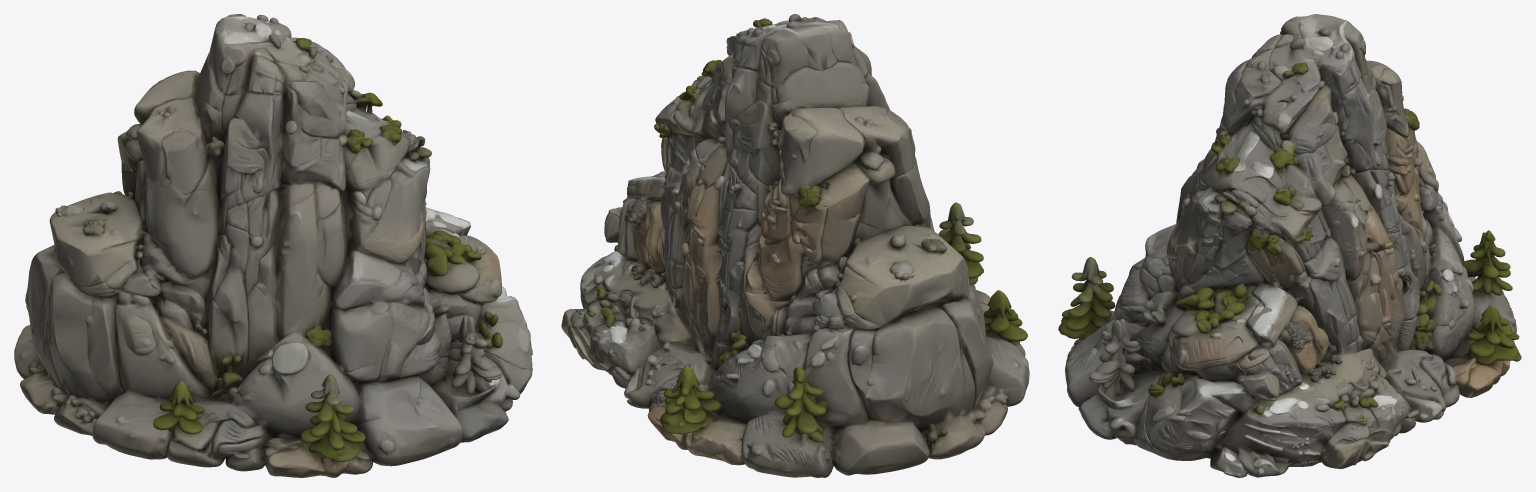
3 renders of one model, left to right at view 1: azimuth 30°, elevation 25°; view 2: azimuth 150°, elevation 25°; view 3: azimuth 270°, elevation 25°, orthographic. The views are drawn at different scales.
Parts seen in each view (by area): view 1: tripo_node_5d3a1920-a5bf-4ad1-8504-2f00e64fca2a; view 2: tripo_node_5d3a1920-a5bf-4ad1-8504-2f00e64fca2a; view 3: tripo_node_5d3a1920-a5bf-4ad1-8504-2f00e64fca2a.
Part boxes in pixels (x1,y1,x2,y2): tripo_node_5d3a1920-a5bf-4ad1-8504-2f00e64fca2a: [14, 14, 532, 477]; tripo_node_5d3a1920-a5bf-4ad1-8504-2f00e64fca2a: [561, 14, 1029, 477]; tripo_node_5d3a1920-a5bf-4ad1-8504-2f00e64fca2a: [1058, 14, 1521, 477].
Bounding box in the file's own units: 0.9794 × 0.7962 × 0.958.
1 material, 1 textured.
